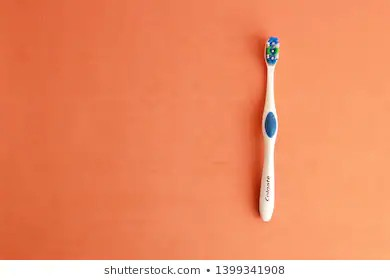toothbrush: (248, 32, 289, 224)
